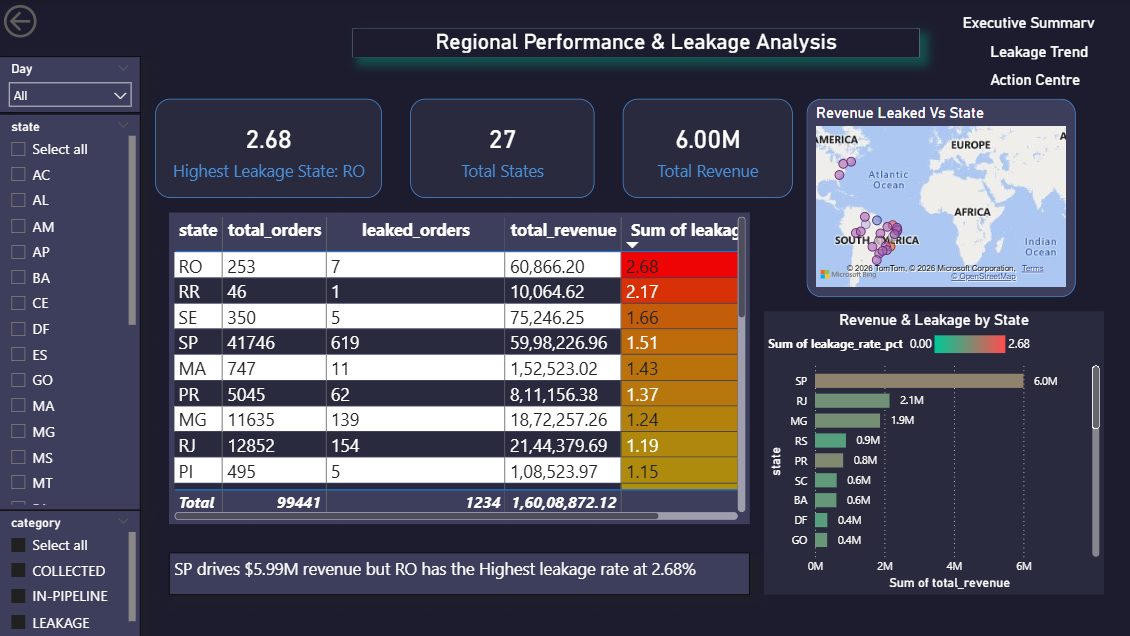

The dashboard page shown, as its layout file describes it:
{"tool":"powerbi","page":{"name":"Regional Analysis","canvas":[1280,720],"ordinal":2},"visuals":[{"type":"clusteredBarChart","title":"Revenue & Leakage by State","fields":{"Category":["orders_customers_payments_202604132146.state"],"Y":["Sum(orders_customers_payments_202604132146.total_revenue)"]},"box":[864,352,384,320],"z":0},{"type":"tableEx","fields":{"Values":["orders_customers_payments_202604132146.state","Sum(orders_customers_payments_202604132146.total_orders)","Sum(orders_customers_payments_202604132146.leaked_orders)","Sum(orders_customers_payments_202604132146.total_revenue)","Sum(orders_customers_payments_202604132146.leakage_rate_pct)"]},"box":[192,240,656,352],"z":1000},{"type":"actionButton","box":[0,0,96,48],"z":2000},{"type":"actionButton","title":"Leakage Trend","box":[1120,48,128,32],"z":3000},{"type":"textbox","title":"Regional Performance & Leakage Analysis","box":[400,32,640,32],"z":4000},{"type":"card","title":"Total States","fields":{"Values":["Sum(kpi_cards.Value)"]},"box":[464,112,208,112],"z":5000},{"type":"card","fields":{"Values":["Sum(kpi_cards (2).Value)"]},"box":[176,112,256,112],"z":6000},{"type":"actionButton","title":"Executive Summary","box":[1088,16,192,16],"z":7000},{"type":"slicer","fields":{"Values":["orders_payments_202604132001.month.Variation.Date Hierarchy.Day"]},"box":[0,64,160,64],"z":8000},{"type":"slicer","fields":{"Values":["orders_customers_payments_202604132146.state"]},"box":[0,128,160,448],"z":9000},{"type":"slicer","fields":{"Values":["revenue_summary_totals_202604132000.category"]},"box":[0,576,160,144],"z":10000},{"type":"card","fields":{"Values":["Sum(orders_customers_payments_202604132146.total_revenue)"]},"box":[704,112,192,112],"z":11000},{"type":"map","title":"Revenue Leaked Vs State","fields":{"Category":["orders_customers_payments_202604132146.state"],"Size":["Sum(revenue_summary_totals_202604132000.revenue_leaked)"]},"box":[912,112,304,224],"z":12000},{"type":"textbox","box":[192,624,656,48],"z":13000},{"type":"actionButton","title":"Action Centre","box":[1120,80,112,16],"z":14000}]}

Visuals, with their boxes on the page's 1280x720 design canvas (x1, y1, x2, y2). These are canvas units, not pixel positions in the 1130x636 screenshot, which may show the page scaled, cropped or inside an application window:
"Revenue & Leakage by State" clusteredBarChart: bbox=(864, 352, 1248, 672)
tableEx - orders_customers_payments_202604132146.state x Sum(orders_customers_payments_202604132146.total_orders): bbox=(192, 240, 848, 592)
actionButton: bbox=(0, 0, 96, 48)
"Leakage Trend" actionButton: bbox=(1120, 48, 1248, 80)
"Regional Performance & Leakage Analysis" textbox: bbox=(400, 32, 1040, 64)
"Total States" card: bbox=(464, 112, 672, 224)
card - Sum(kpi_cards (2).Value): bbox=(176, 112, 432, 224)
"Executive Summary" actionButton: bbox=(1088, 16, 1280, 32)
slicer - orders_payments_202604132001.month.Variation.Date Hierarchy.Day: bbox=(0, 64, 160, 128)
slicer - orders_customers_payments_202604132146.state: bbox=(0, 128, 160, 576)
slicer - revenue_summary_totals_202604132000.category: bbox=(0, 576, 160, 720)
card - Sum(orders_customers_payments_202604132146.total_revenue): bbox=(704, 112, 896, 224)
"Revenue Leaked Vs State" map: bbox=(912, 112, 1216, 336)
textbox: bbox=(192, 624, 848, 672)
"Action Centre" actionButton: bbox=(1120, 80, 1232, 96)
